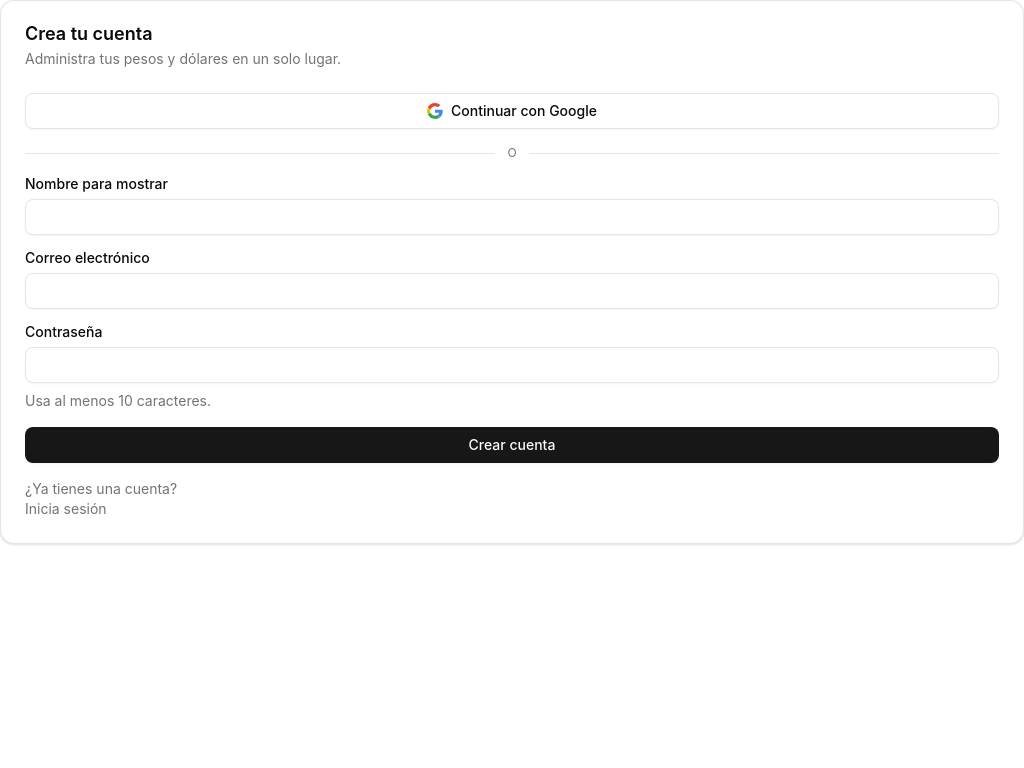
Test: RegisterContainer › shows a too-short password on the password field
In the field labelled "Nombre para mostrar": (512, 217) [25,199,999,235], type "Ana"
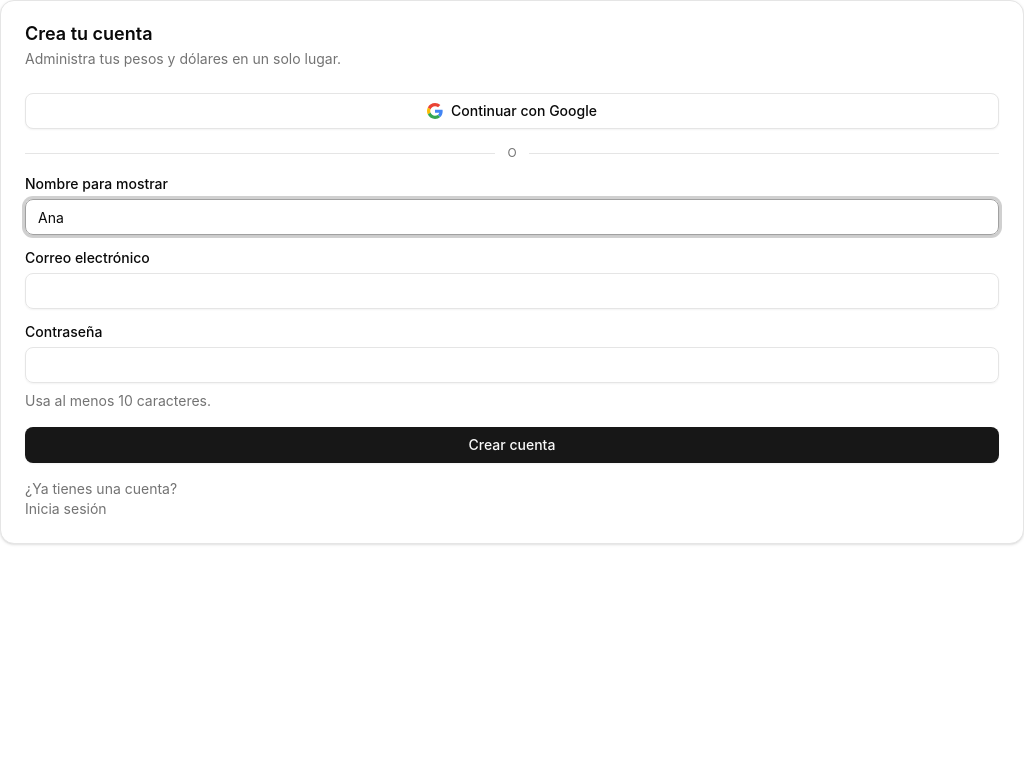
In the field labelled "Correo electrónico": (512, 291) [25,273,999,309], type "ana@example.com"
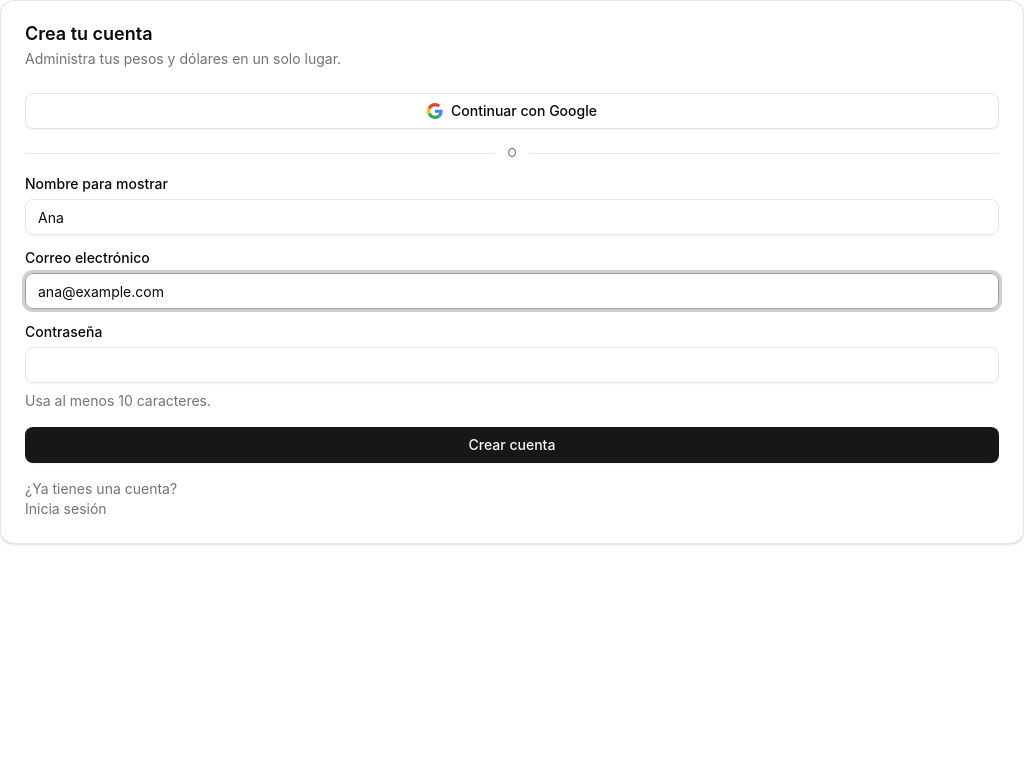
In the password field labelled "Contraseña": (512, 365) [25,347,999,383], type "short"
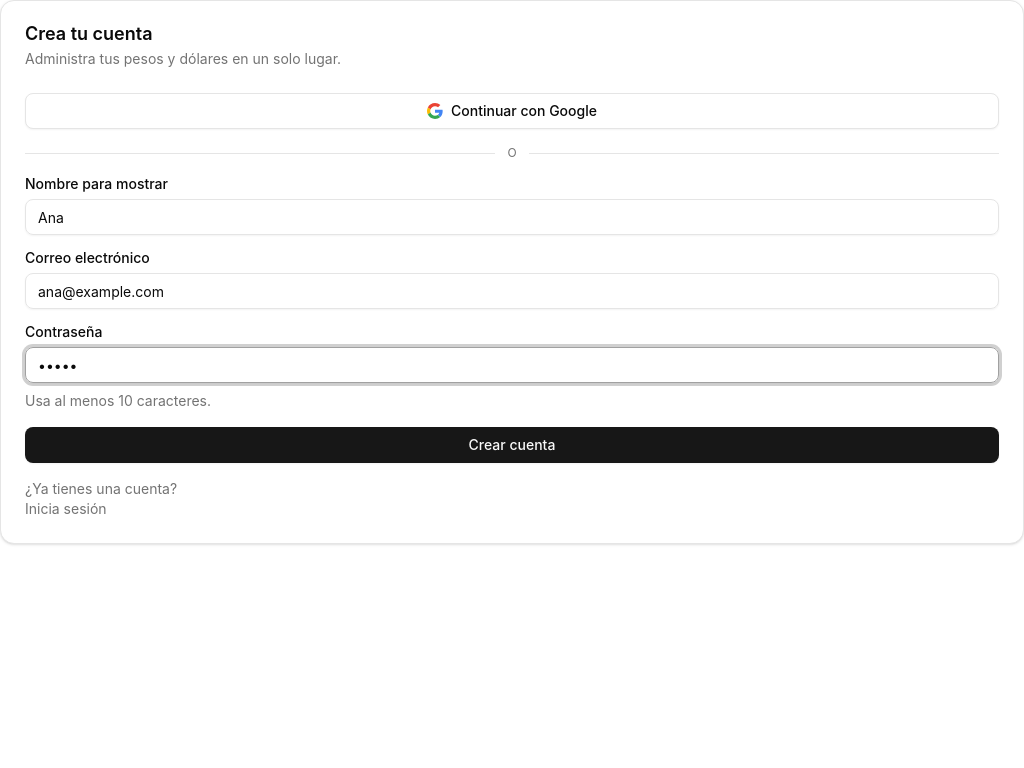
Click the button "Crear cuenta": (512, 445) [25,427,999,463]
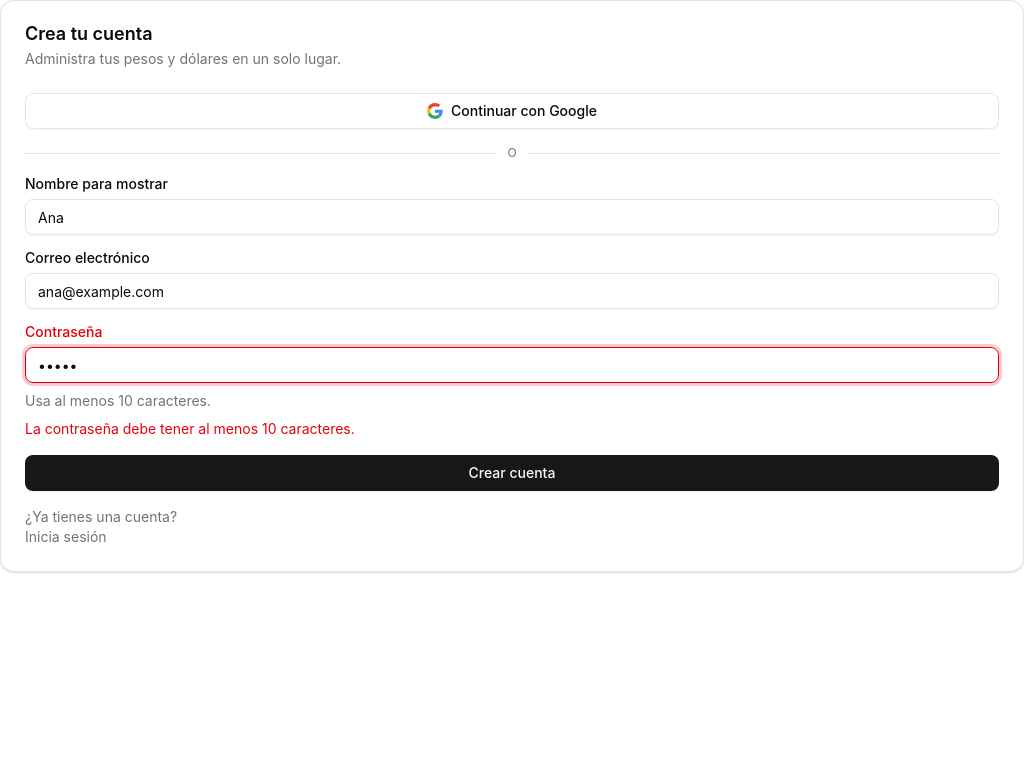
Expected: the button "Crear cuenta" is enabled, [25,455,999,491]
Now the text "La contraseña debe tener al menos 10 caracteres." is shown, box [25,420,355,437]
